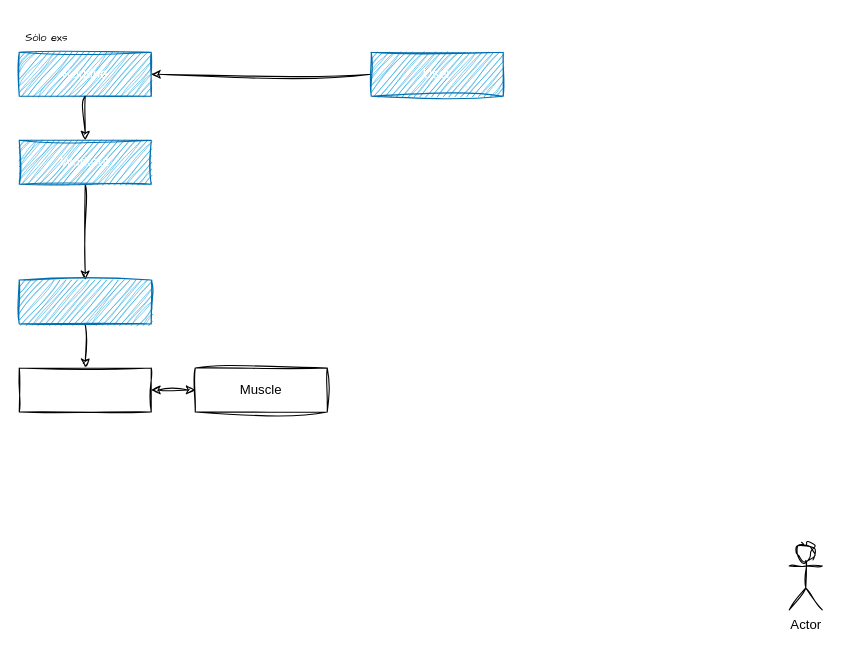
Some shapes in this 842 by 651 pixel diagram are drawn without their labels. Each missing label, with the centre of its shape:
"Exercises" belongs at point 84,389.
"Series" belongs at point 84,301.
